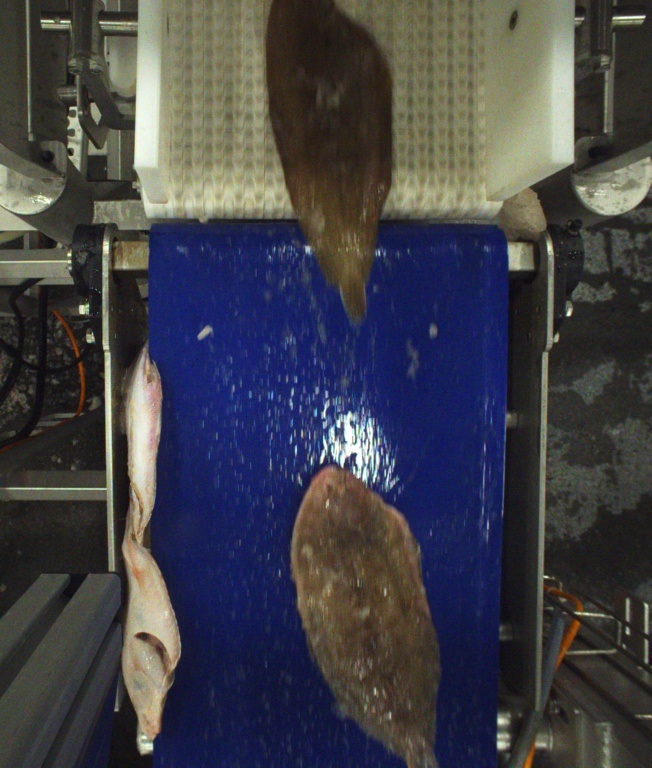SOL: (290, 462, 441, 768)
